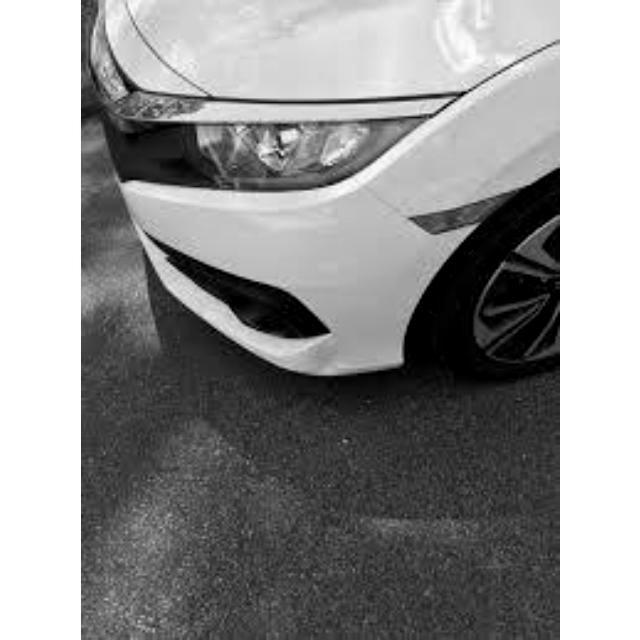front-bumper-dent: (120, 190, 451, 380)
